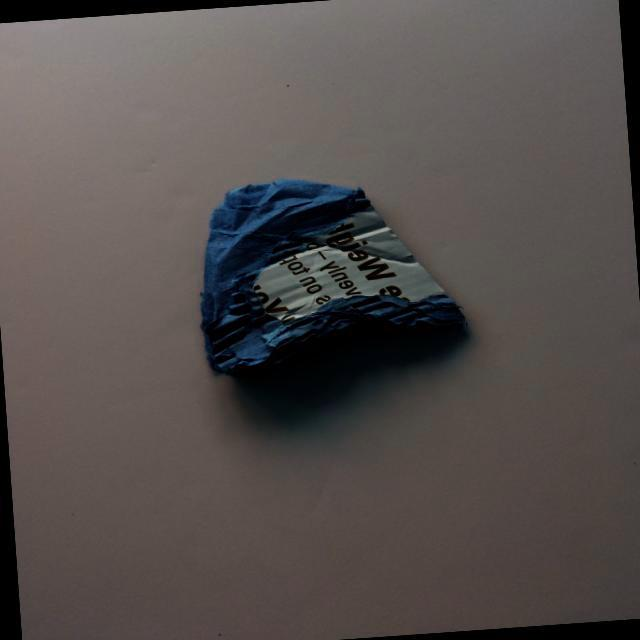cardboard: (179, 157, 491, 416)
